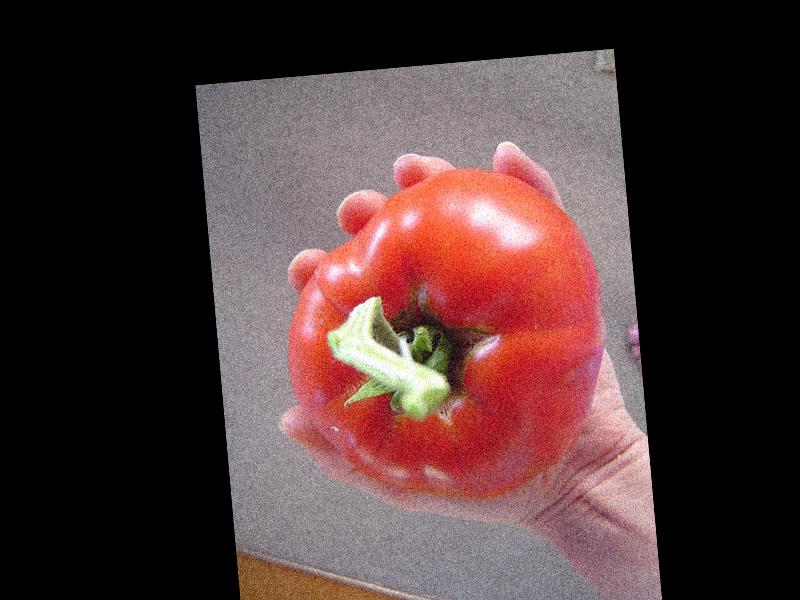Tomato: (272, 158, 617, 513)
